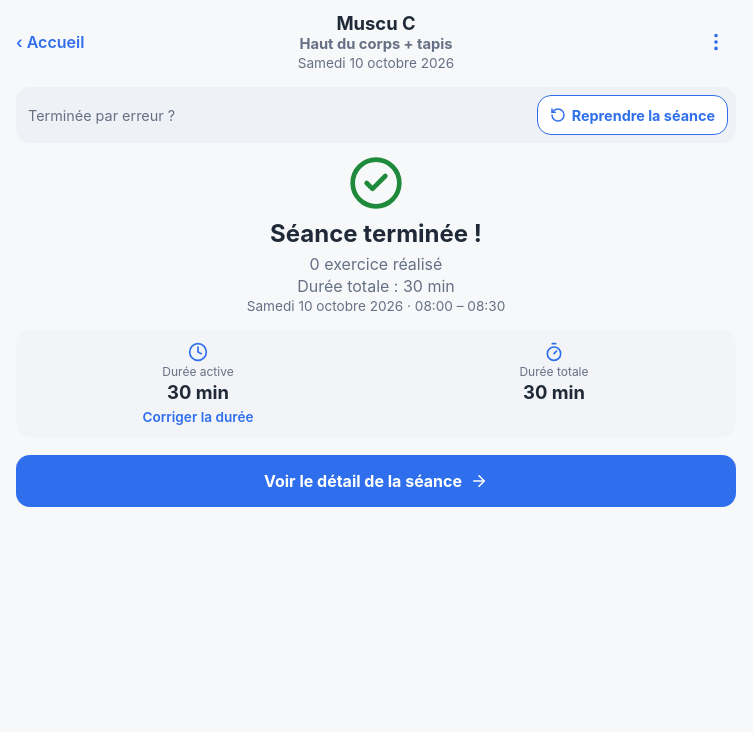
Test case: écran de fin : reprendre la séance › terminée par erreur : « Reprendre la séance » ramène à la séance en cours, chrono relancé, rien d'enregistré
Click the button "Reprendre la séance".
click(632, 115)  # box left=537, top=95, right=728, bottom=135
(page scrolled)
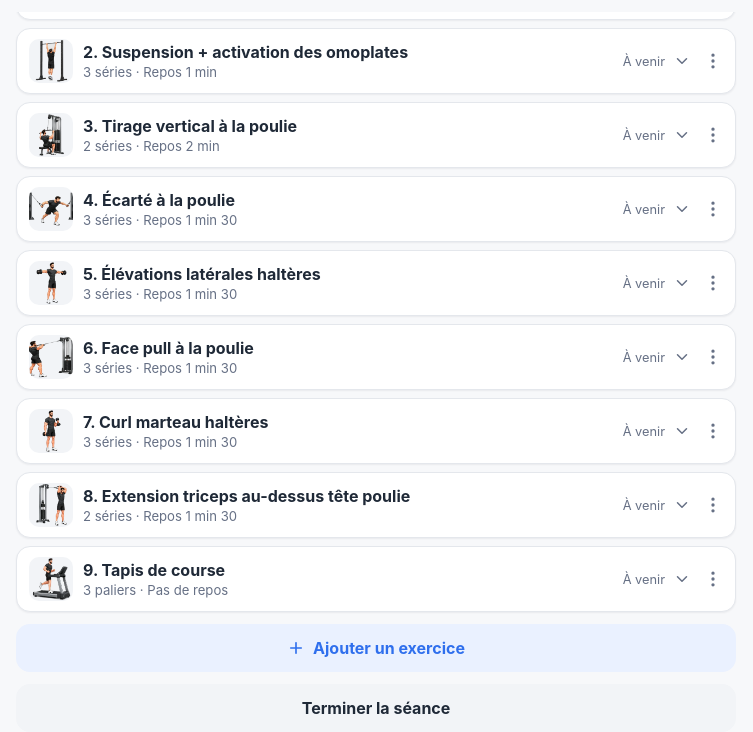
Check: the button "Terminer la séance" is shown, box left=16, top=684, right=736, bottom=731
